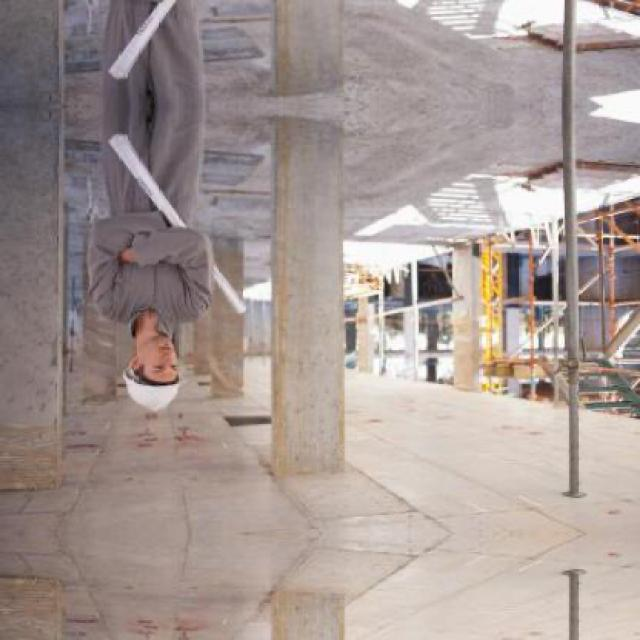con casco: (100, 286, 209, 429)
